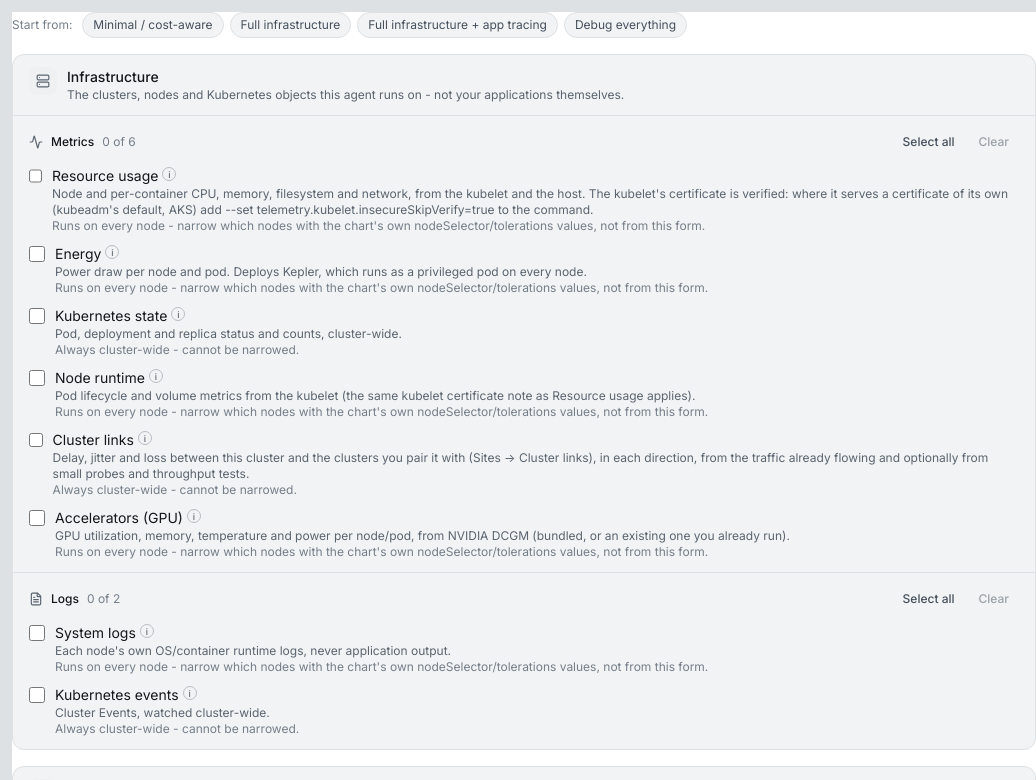
Test: CollectStep › Select all and Clear act on one modality group only
This screenshot has width=1036, height=780.
Click the button with test id "c-collect-infrastructure-logs-all".
click(929, 599)  # box [893,585,965,613]
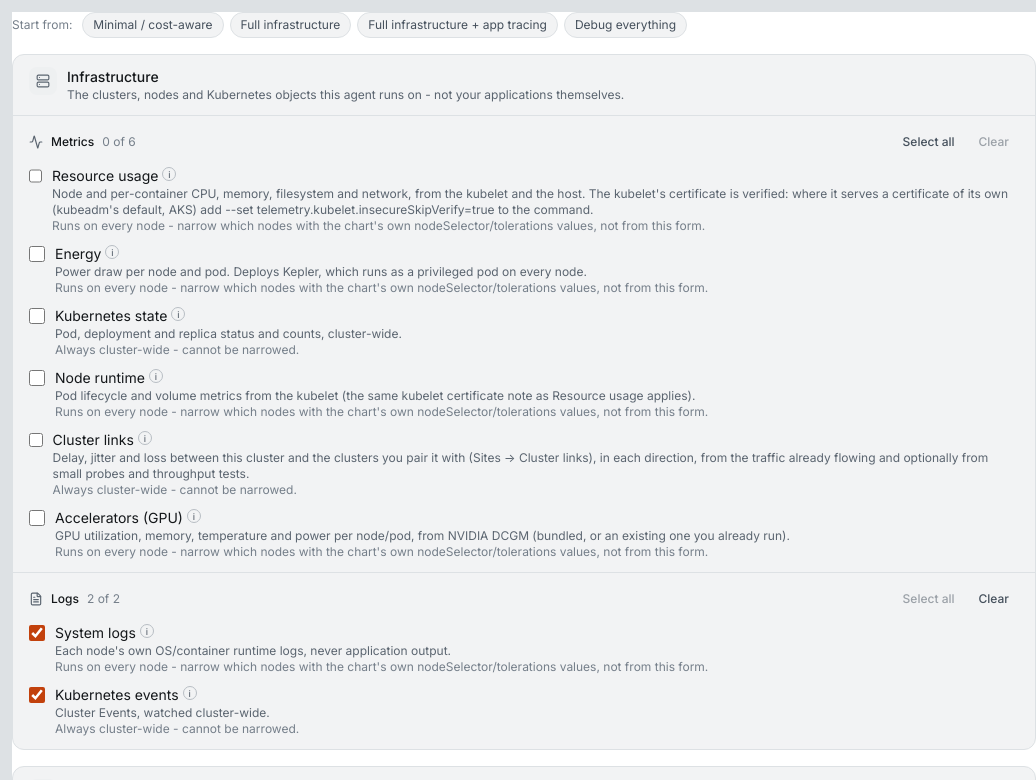
Expected: the button with test id "c-collect-infrastructure-logs-all" is disabled, [893,585,965,613]
Click the button with test id "c-collect-infrastructure-logs-none".
click(994, 599)  # box [968,585,1019,613]
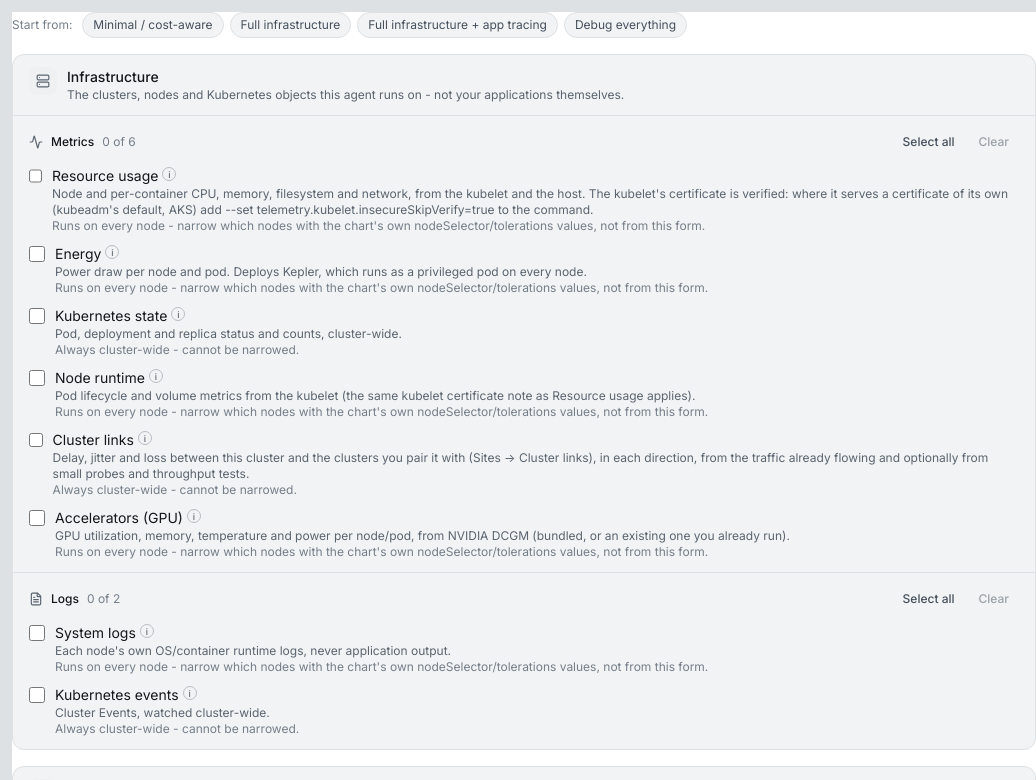
Expected: the button with test id "c-collect-infrastructure-logs-none" is disabled, [968,585,1019,613]
